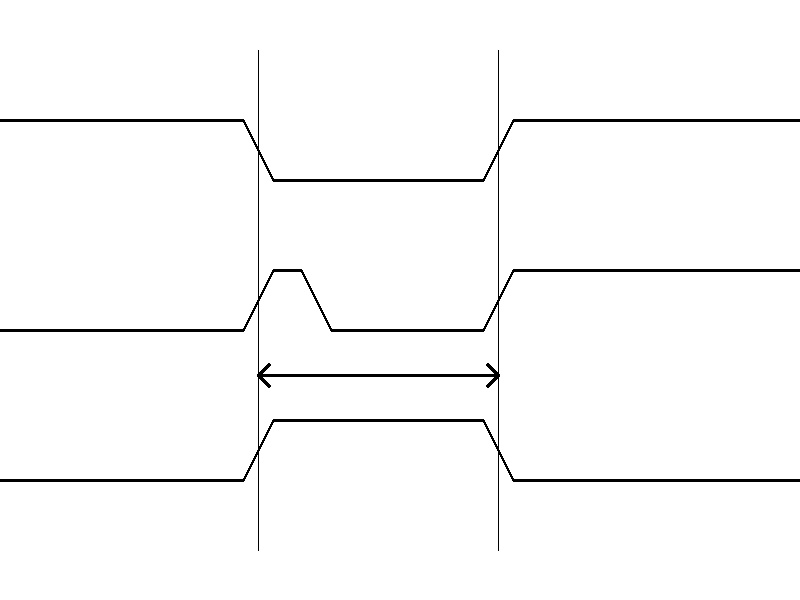double_arrow: (258, 360, 498, 390)
